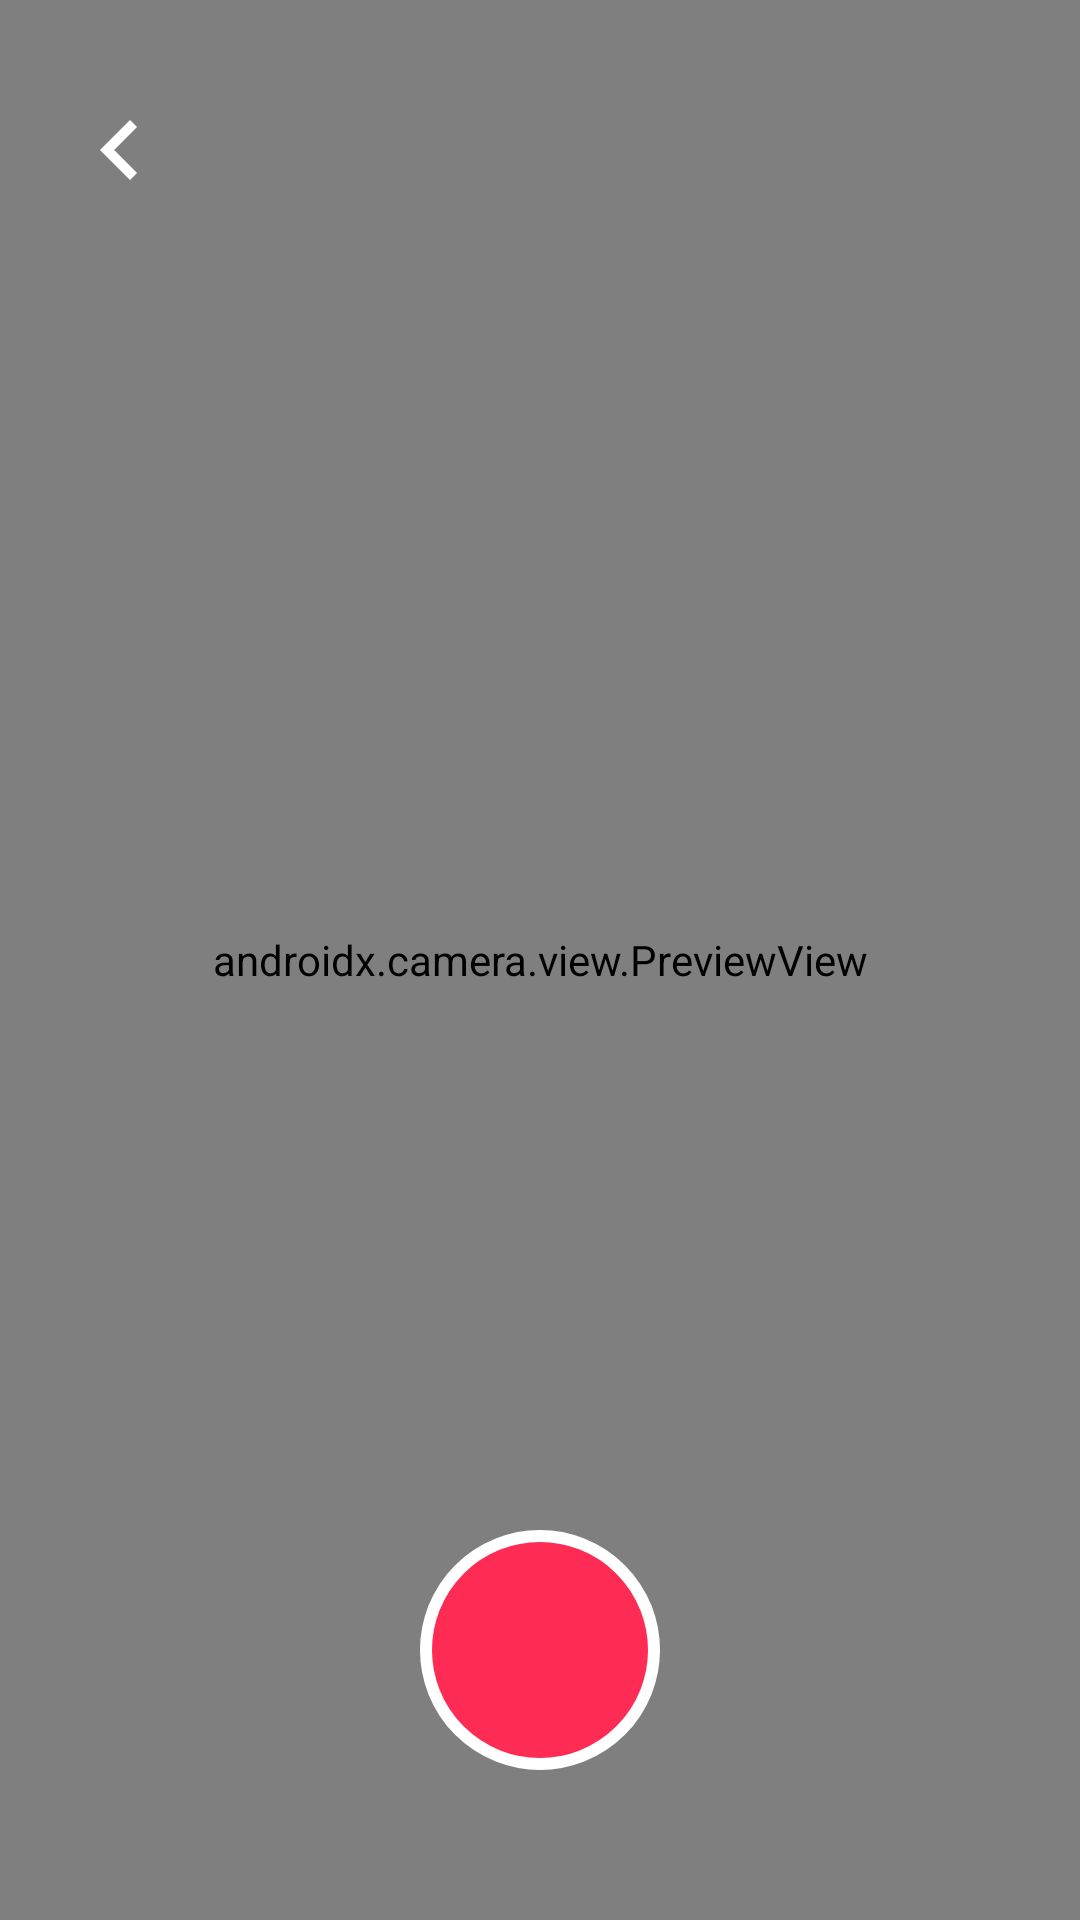

Screen size 1080w x 1920h. Icon name, then its box in pixels as region(x1, y1, x2, y2):
back arrow: region(100, 120, 137, 180)
